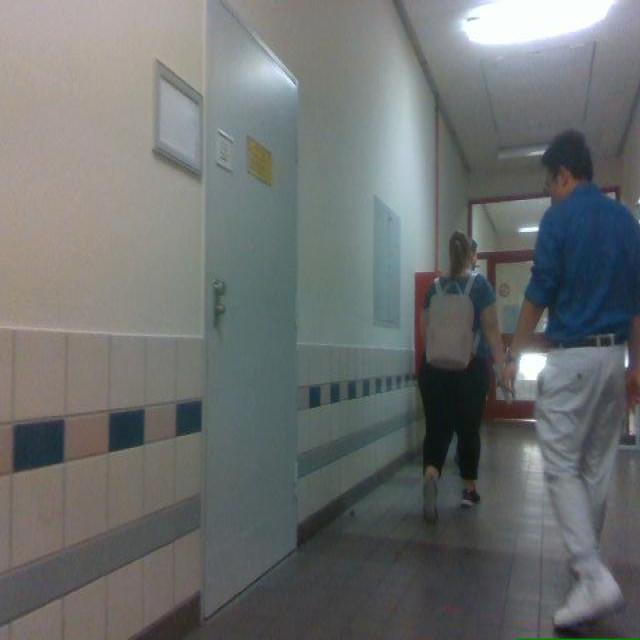humans: (504, 129, 639, 628), (419, 232, 503, 520)
objects: (426, 275, 475, 369)
